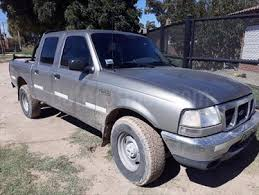car: (9, 30, 259, 183)
